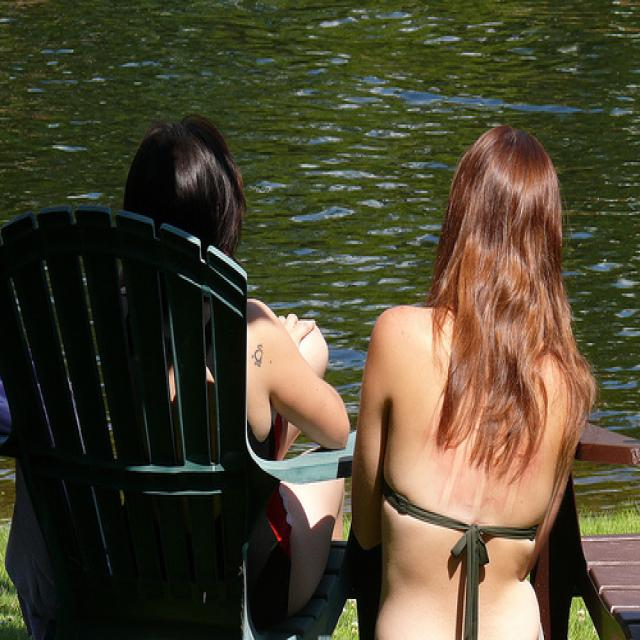chair: (1, 203, 361, 640)
person: (347, 122, 600, 639), (120, 110, 348, 612)
